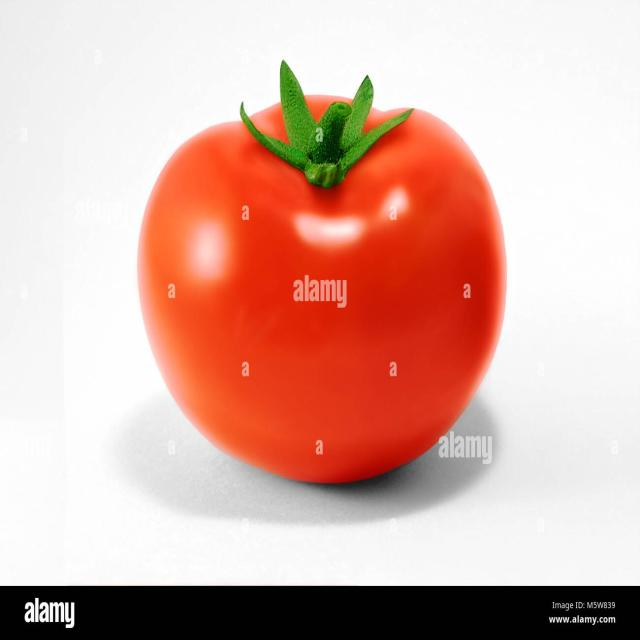kirmizi: (120, 76, 540, 513)
